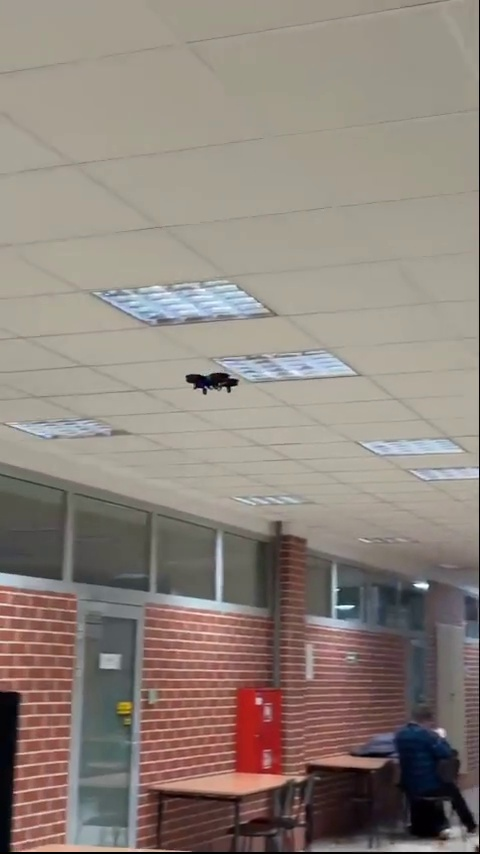drone: (185, 370, 237, 397)
no vest: (391, 701, 470, 808)
